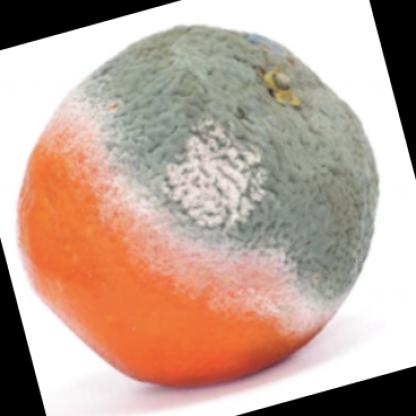rotten_orange: (6, 21, 379, 395)
